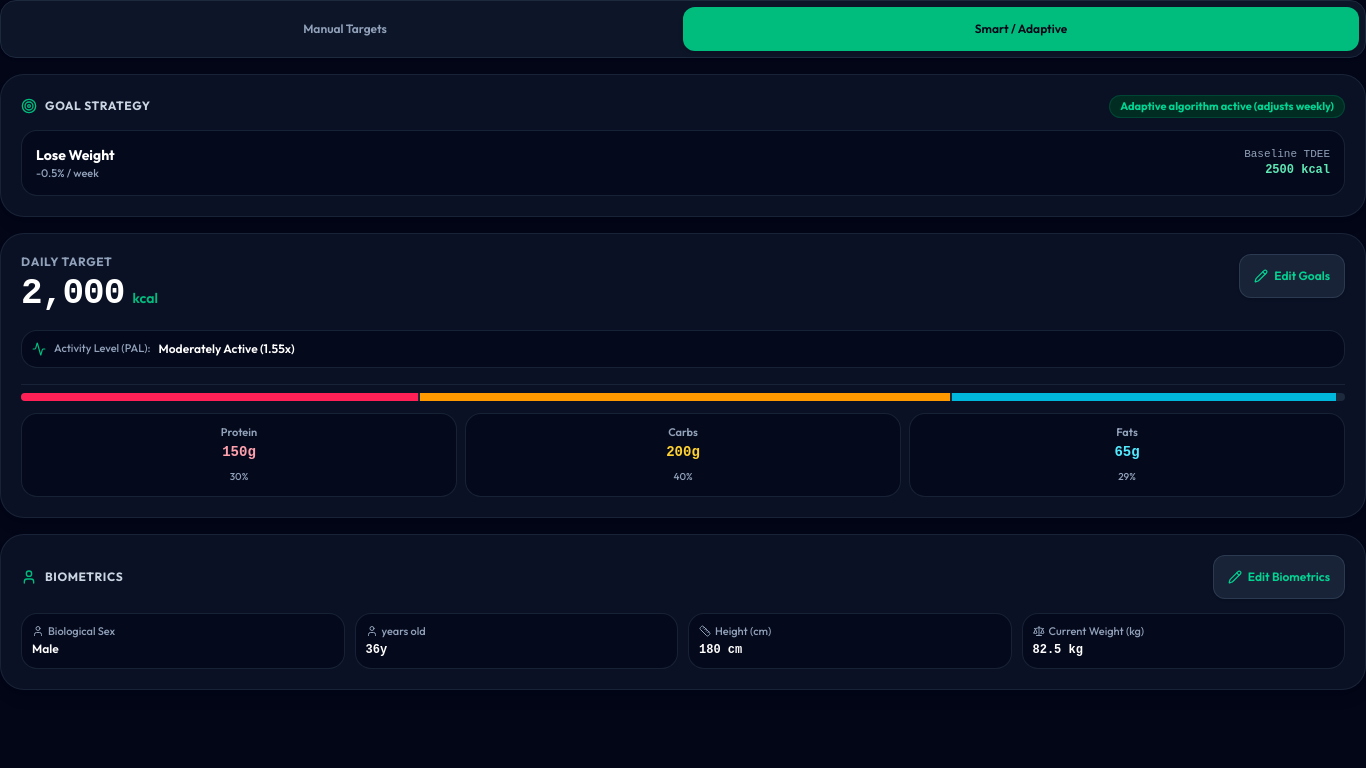
Test: UserProfileGoalsScreen & Focused Modals Component Suite › 6. opens AdaptiveGoalsEditModal when Edit Goals is clicked in smart mode and shows Activity level in Daily Target card
Expected: the element with test id "target-activity-badge" is shown, top-left (21, 330), bottom-right (1345, 368)
Expected: the element with test id "target-activity-badge" shows "Moderately Active", top-left (159, 340), bottom-right (295, 356)
// Click edit goals opens AdaptiveGoalsEditModal
Click the button with test id "btn-edit-goals". click: (1292, 276)
box: top-left (1239, 254), bottom-right (1345, 298)
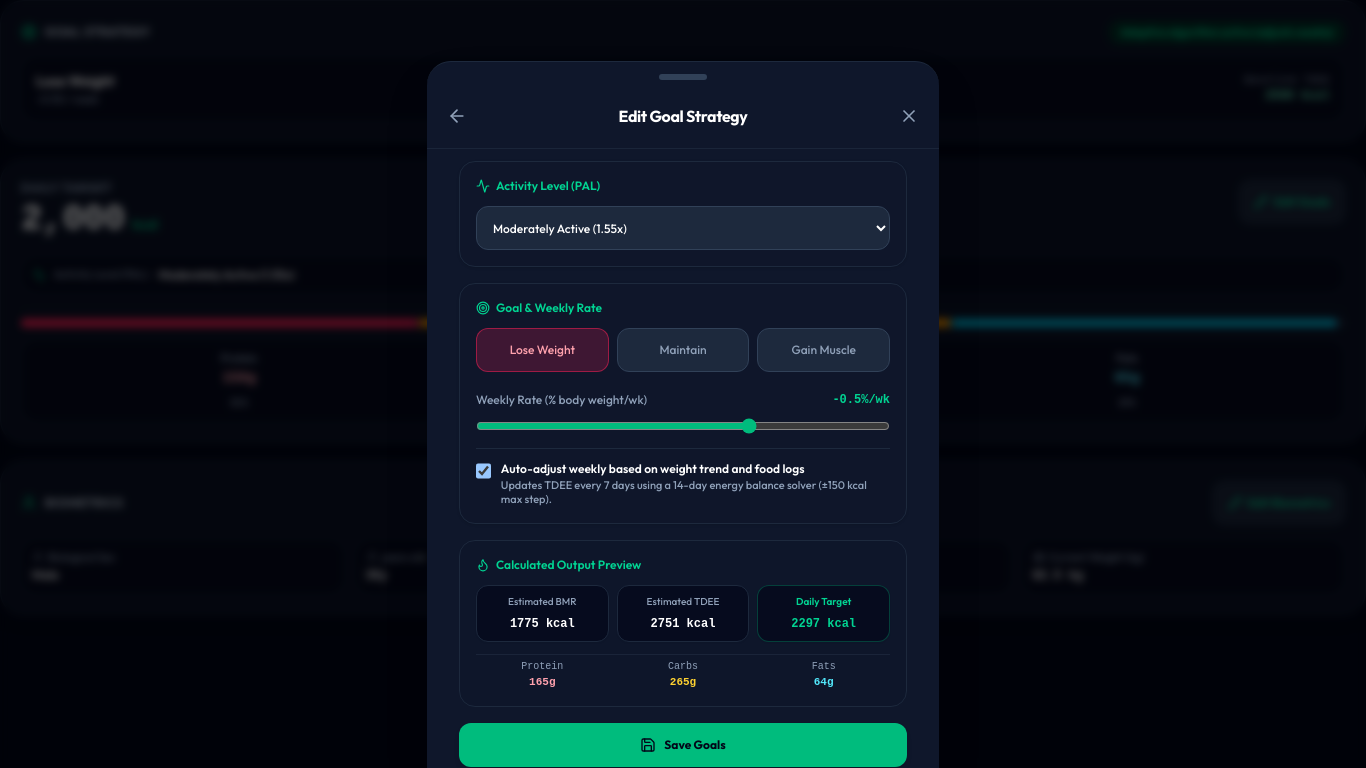
Now the dialog with test id "adaptive-goals-edit-modal" is shown, box top-left (427, 62), bottom-right (939, 767)
Now the button with test id "btn-back-adaptive-goals" is shown, box top-left (435, 94), bottom-right (479, 138)
Now the dropdown with test id "select-biometrics-activity" is shown, box top-left (476, 206), bottom-right (890, 250)
